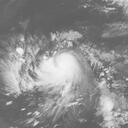cyclone: (41, 51, 96, 97)
